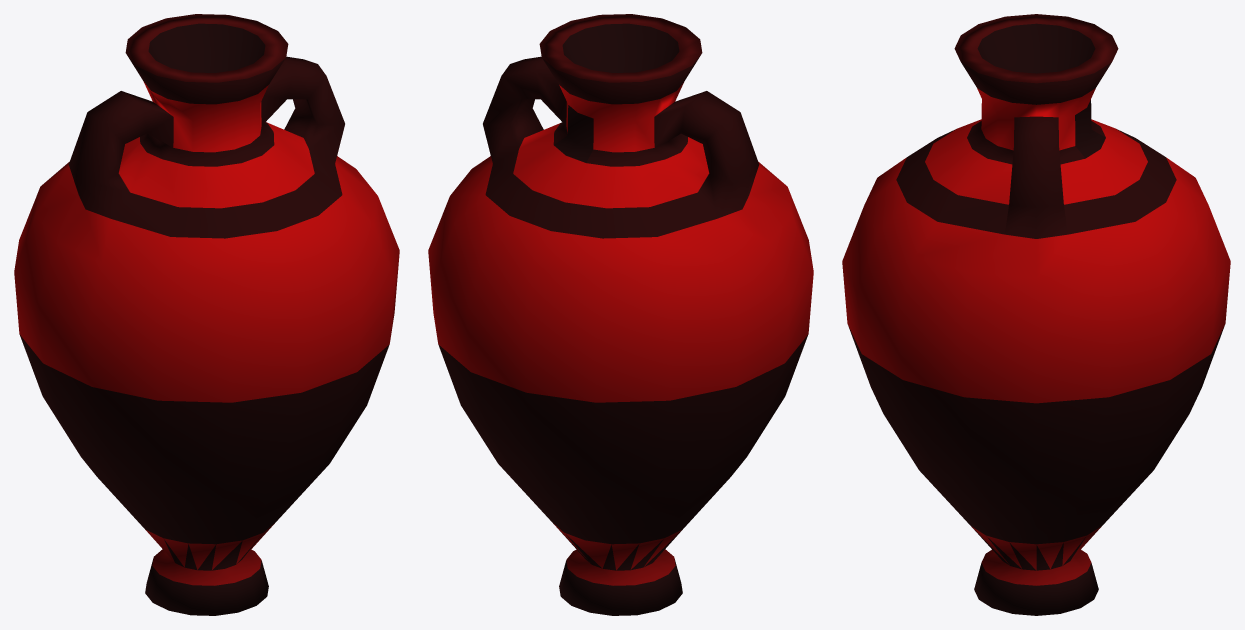
Rendered from Vase002.glb.
The picture shows the model from 3 angles, left to right: view 1: azimuth 30°, elevation 25°; view 2: azimuth 150°, elevation 25°; view 3: azimuth 270°, elevation 25°; orthographic projection.
Parts seen in each view (by area): view 1: Vase002; view 2: Vase002; view 3: Vase002.
Part boxes in pixels (x1,y1,x2,y2): Vase002: (14,14,399,615); Vase002: (428,14,813,615); Vase002: (842,14,1230,615).
Bounding box in the file's own units: 2.53 × 3.89 × 2.53.
